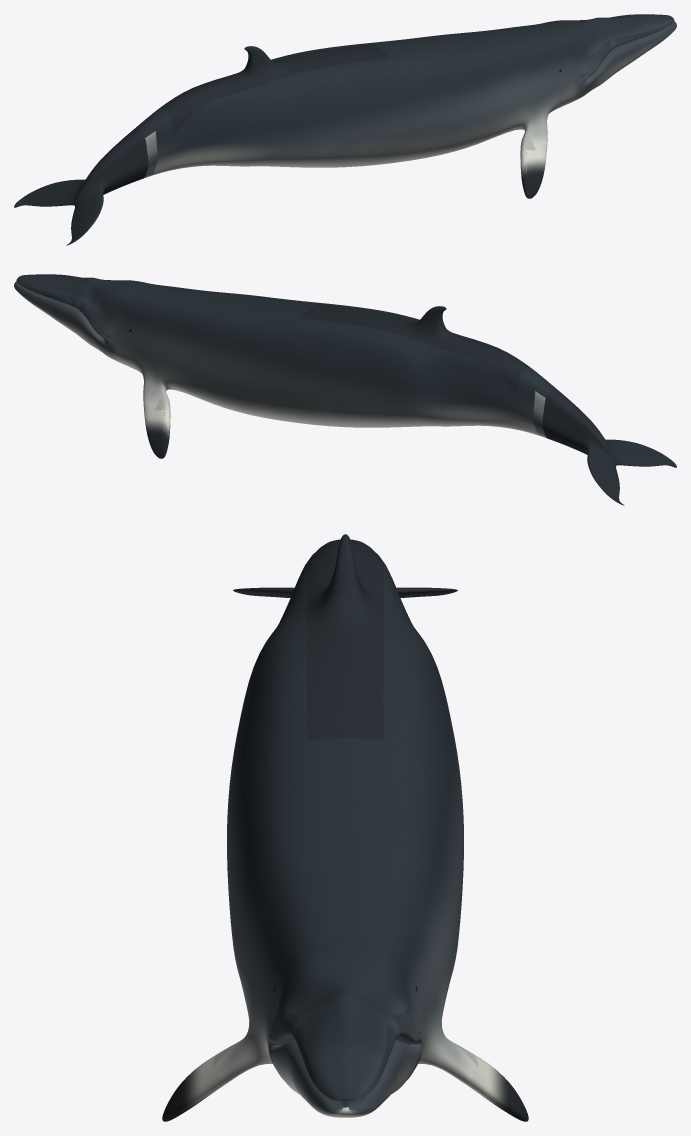
File: model-cetacean-balaenoptera-acutorostrata-v0677.glb
3 renders of one model, top to bottom at view 1: azimuth 30°, elevation 25°; view 2: azimuth 150°, elevation 25°; view 3: azimuth 270°, elevation 25°, orthographic. The views are drawn at different scales.
Parts seen in each view (by area): view 1: balaenoptera-acutorostrata source-derived exterior; view 2: balaenoptera-acutorostrata source-derived exterior; view 3: balaenoptera-acutorostrata source-derived exterior.
Boxes of the visible parts, bbox=[...] form: balaenoptera-acutorostrata source-derived exterior: bbox=[14, 14, 676, 245]; balaenoptera-acutorostrata source-derived exterior: bbox=[14, 274, 676, 505]; balaenoptera-acutorostrata source-derived exterior: bbox=[162, 534, 528, 1121].
Bounding box in the file's own units: 3.83 × 1.02 × 0.9567.
1 material, 1 textured.
